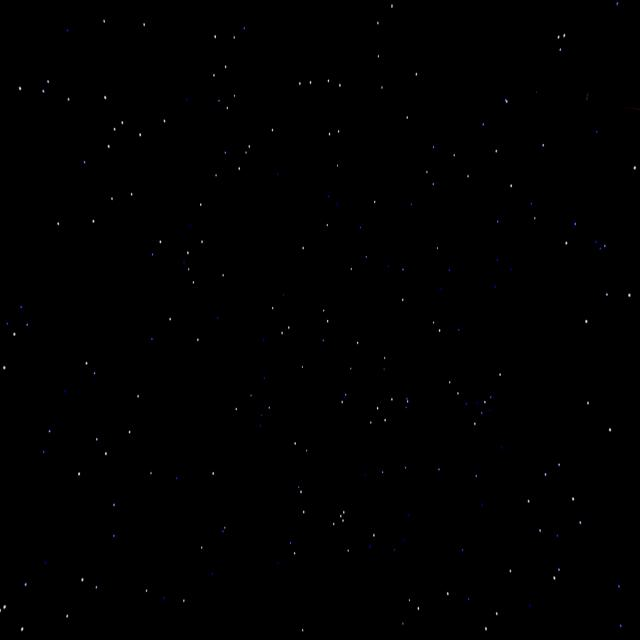satellite: (516, 61, 640, 183)
